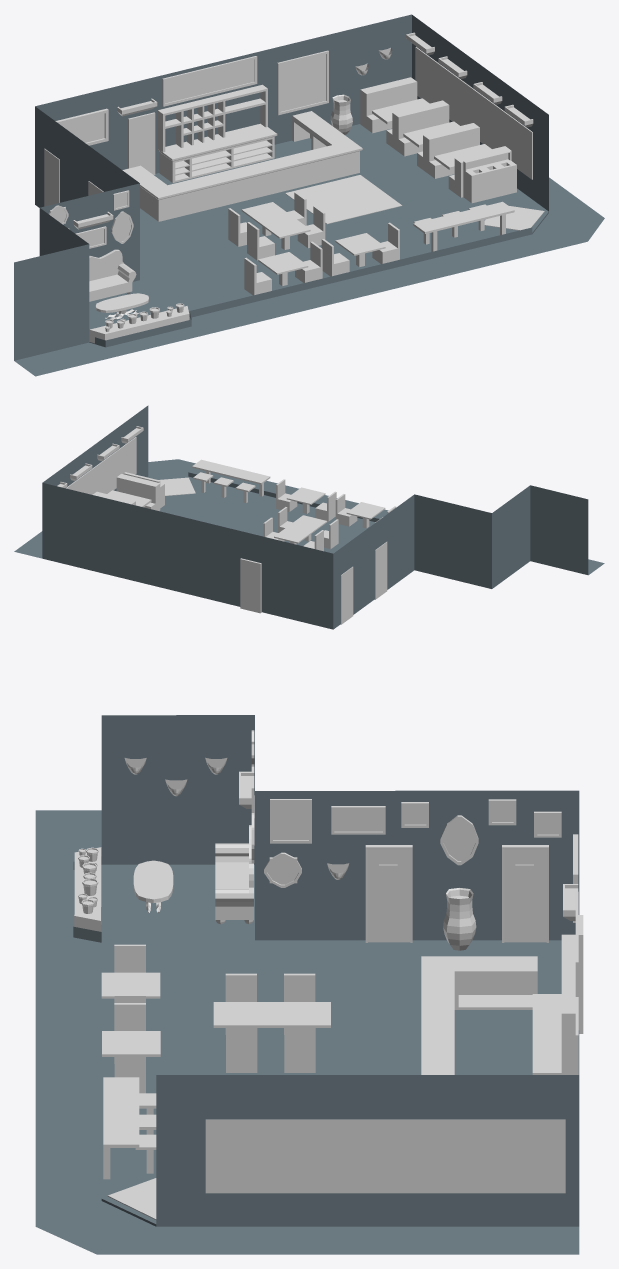
The model's file is Cafe Layout.fbx.
3 renders of one model, top to bottom at view 1: azimuth 30°, elevation 25°; view 2: azimuth 150°, elevation 25°; view 3: azimuth 270°, elevation 25°, orthographic. The views are drawn at different scales.
Parts seen in each view (by area): view 1: base, Ordering, window, Working, shelving, big rug, cafe name, chalk board, Cube, booth seat double, booth seat double.001, booth seat (+24 smaller); view 2: base, window, door, booth seat.001, window bar, door.001, door.002, welcome mat, table, table.001, chair.003, table.002 (+4 smaller); view 3: base, window, Ordering, door.002, door.001, couch, window bar, Working, shelving, picture frame.009, bigpotted plant, low table (+17 smaller).
Part boxes in pixels (x1=…): base: x1=14, y1=14, x2=604, y2=376; Ordering: x1=122, y1=111, x2=362, y2=221; window: x1=415, y1=47, x2=532, y2=179; Working: x1=158, y1=123, x2=277, y2=182; shelving: x1=157, y1=84, x2=267, y2=152; big rug: x1=285, y1=175, x2=402, y2=224; cafe name: x1=162, y1=56, x2=257, y2=106; chalk board: x1=277, y1=50, x2=328, y2=115; Cube: x1=463, y1=150, x2=516, y2=203; booth seat double: x1=386, y1=100, x2=449, y2=156; booth seat double.001: x1=417, y1=123, x2=479, y2=178; booth seat: x1=360, y1=77, x2=417, y2=133; base: x1=14, y1=405, x2=604, y2=629; window: x1=66, y1=437, x2=136, y2=494; door: x1=240, y1=558, x2=261, y2=613; booth seat.001: x1=116, y1=474, x2=160, y2=510; window bar: x1=192, y1=459, x2=270, y2=496; door.001: x1=340, y1=566, x2=353, y2=624; door.002: x1=375, y1=542, x2=387, y2=599; welcome mat: x1=159, y1=477, x2=195, y2=495; table: x1=286, y1=487, x2=325, y2=513; table.001: x1=346, y1=502, x2=385, y2=528; chair.003: x1=335, y1=494, x2=357, y2=526; table.002: x1=289, y1=515, x2=327, y2=541; base: x1=35, y1=715, x2=579, y2=1254; window: x1=205, y1=1119, x2=565, y2=1193; Ordering: x1=421, y1=956, x2=537, y2=1074; door.002: x1=365, y1=845, x2=412, y2=942; door.001: x1=502, y1=845, x2=548, y2=942; couch: x1=215, y1=825, x2=253, y2=924; window bar: x1=103, y1=1077, x2=139, y2=1179; Working: x1=532, y1=994, x2=575, y2=1074; shelving: x1=561, y1=934, x2=575, y2=1072; picture frame.009: x1=270, y1=799, x2=311, y2=843; bigpotted plant: x1=443, y1=888, x2=476, y2=950; low table: x1=133, y1=860, x2=173, y2=913.
Size of the model in its own units: 30060 by 4834 by 15668.
